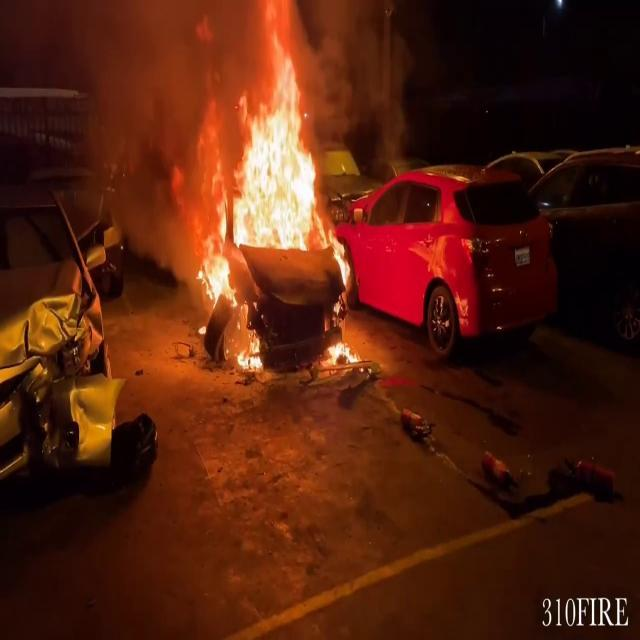Fire: (188, 4, 346, 364), (318, 334, 364, 372)
Smoke: (26, 1, 226, 219)
